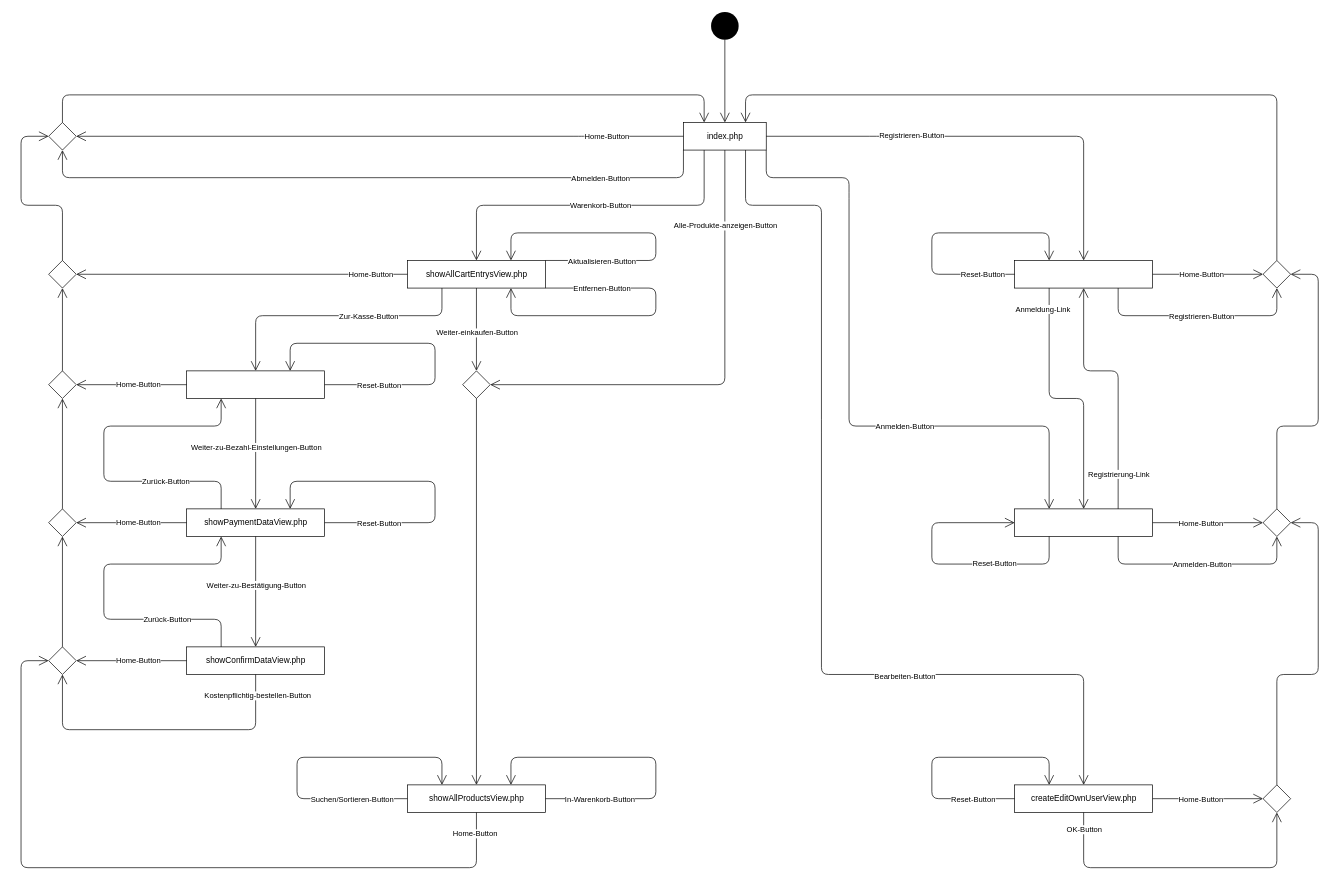
Some shapes in this 1340 by 889 pixel diagram are drawn without their labels. Each missing label, with the centre of its shape:
loginUserView.php: (x=1083, y=522)
registerUserView.php: (x=1083, y=274)
showRecipientDataView.php: (x=255, y=384)
